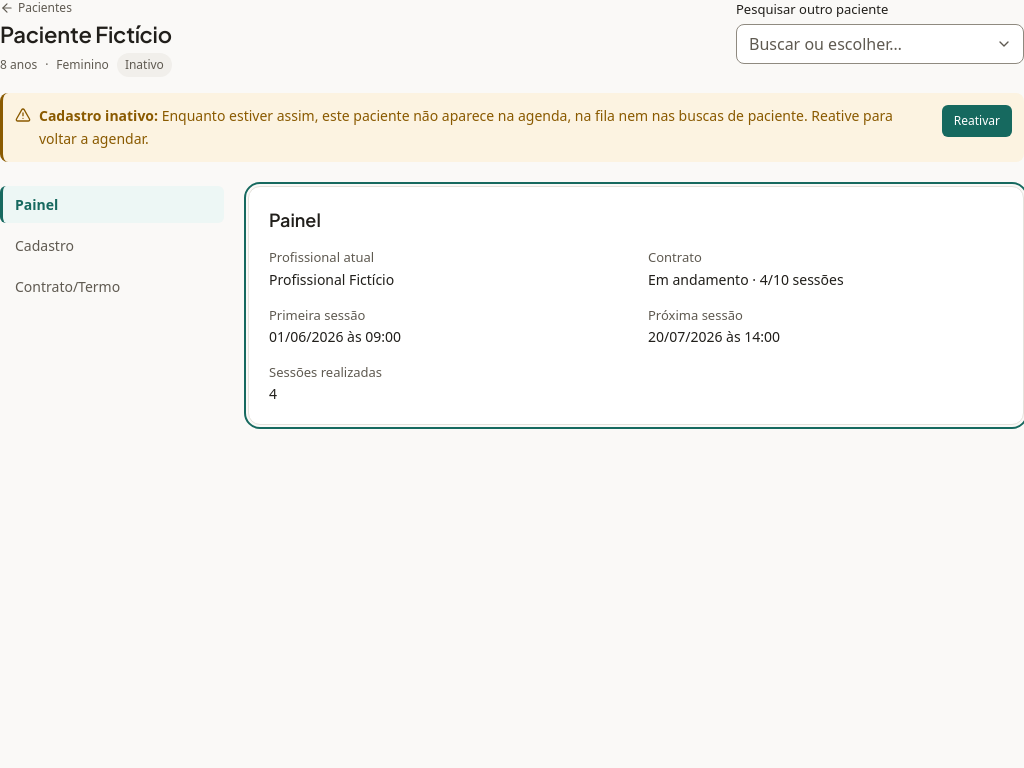
Test: Ficha do paciente — cancelar devolve o foco ao próprio botão › deve manter a faixa e devolver o foco ao gatilho quando a pessoa desiste
The image size is (1024, 768).
Click the button "Reativar" at [977, 121], box [942,105,1012,137]
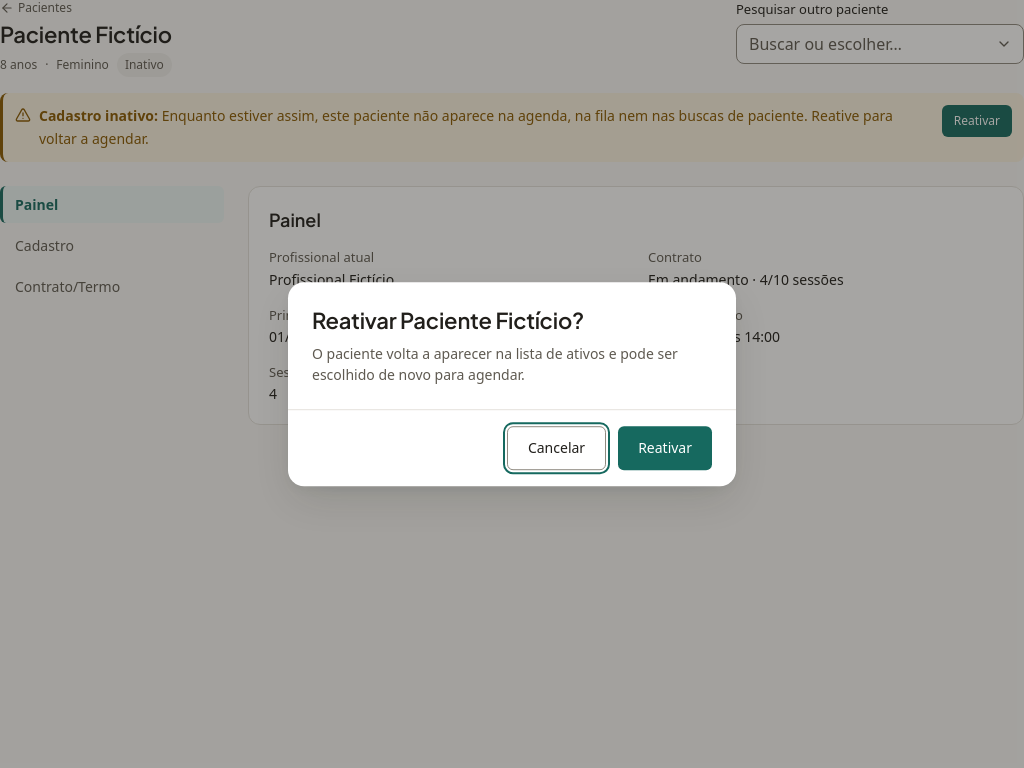
Click the button "Cancelar" at [556, 448], box [507,426,606,470]
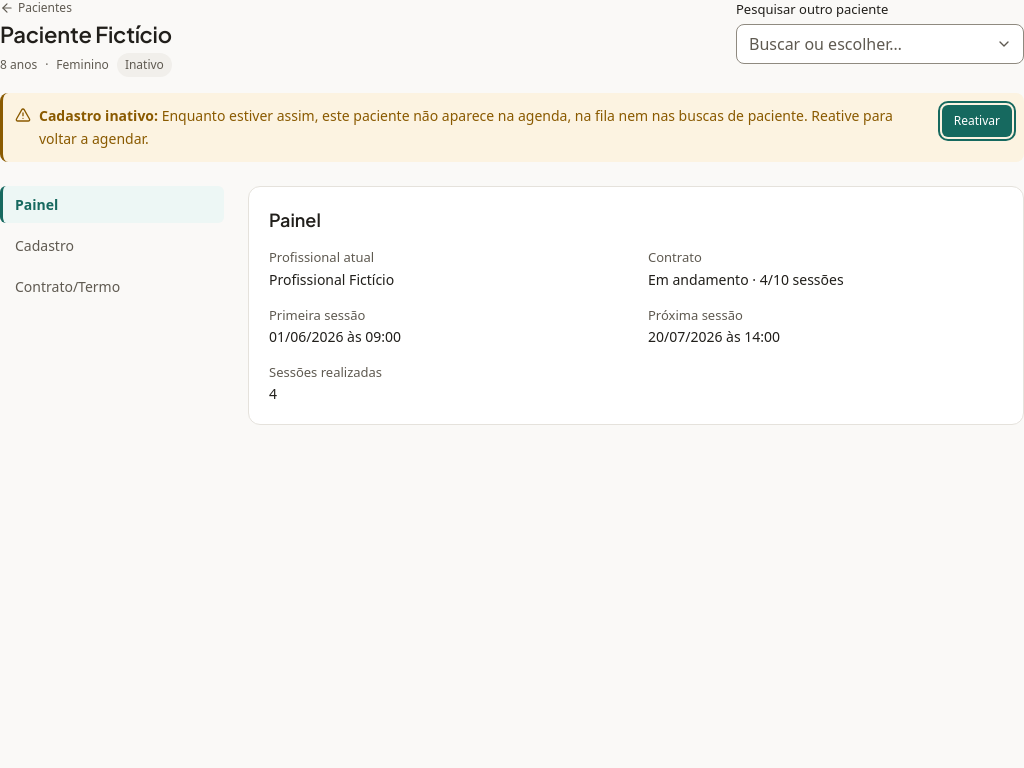
Expected: the text "Cadastro inativo:" is shown, [39,106,162,125]
Expected: the dialog is gone
